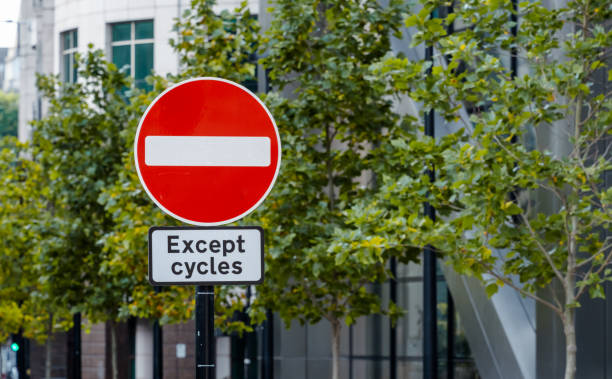Girilmez: (135, 76, 281, 227)
